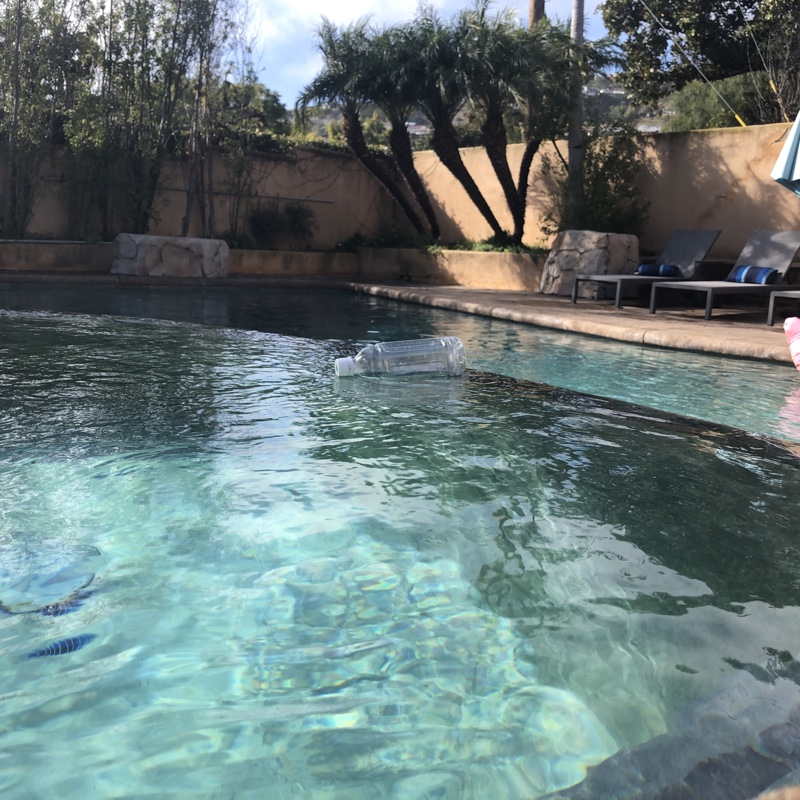Plastic Bottle: (328, 332, 471, 384)
